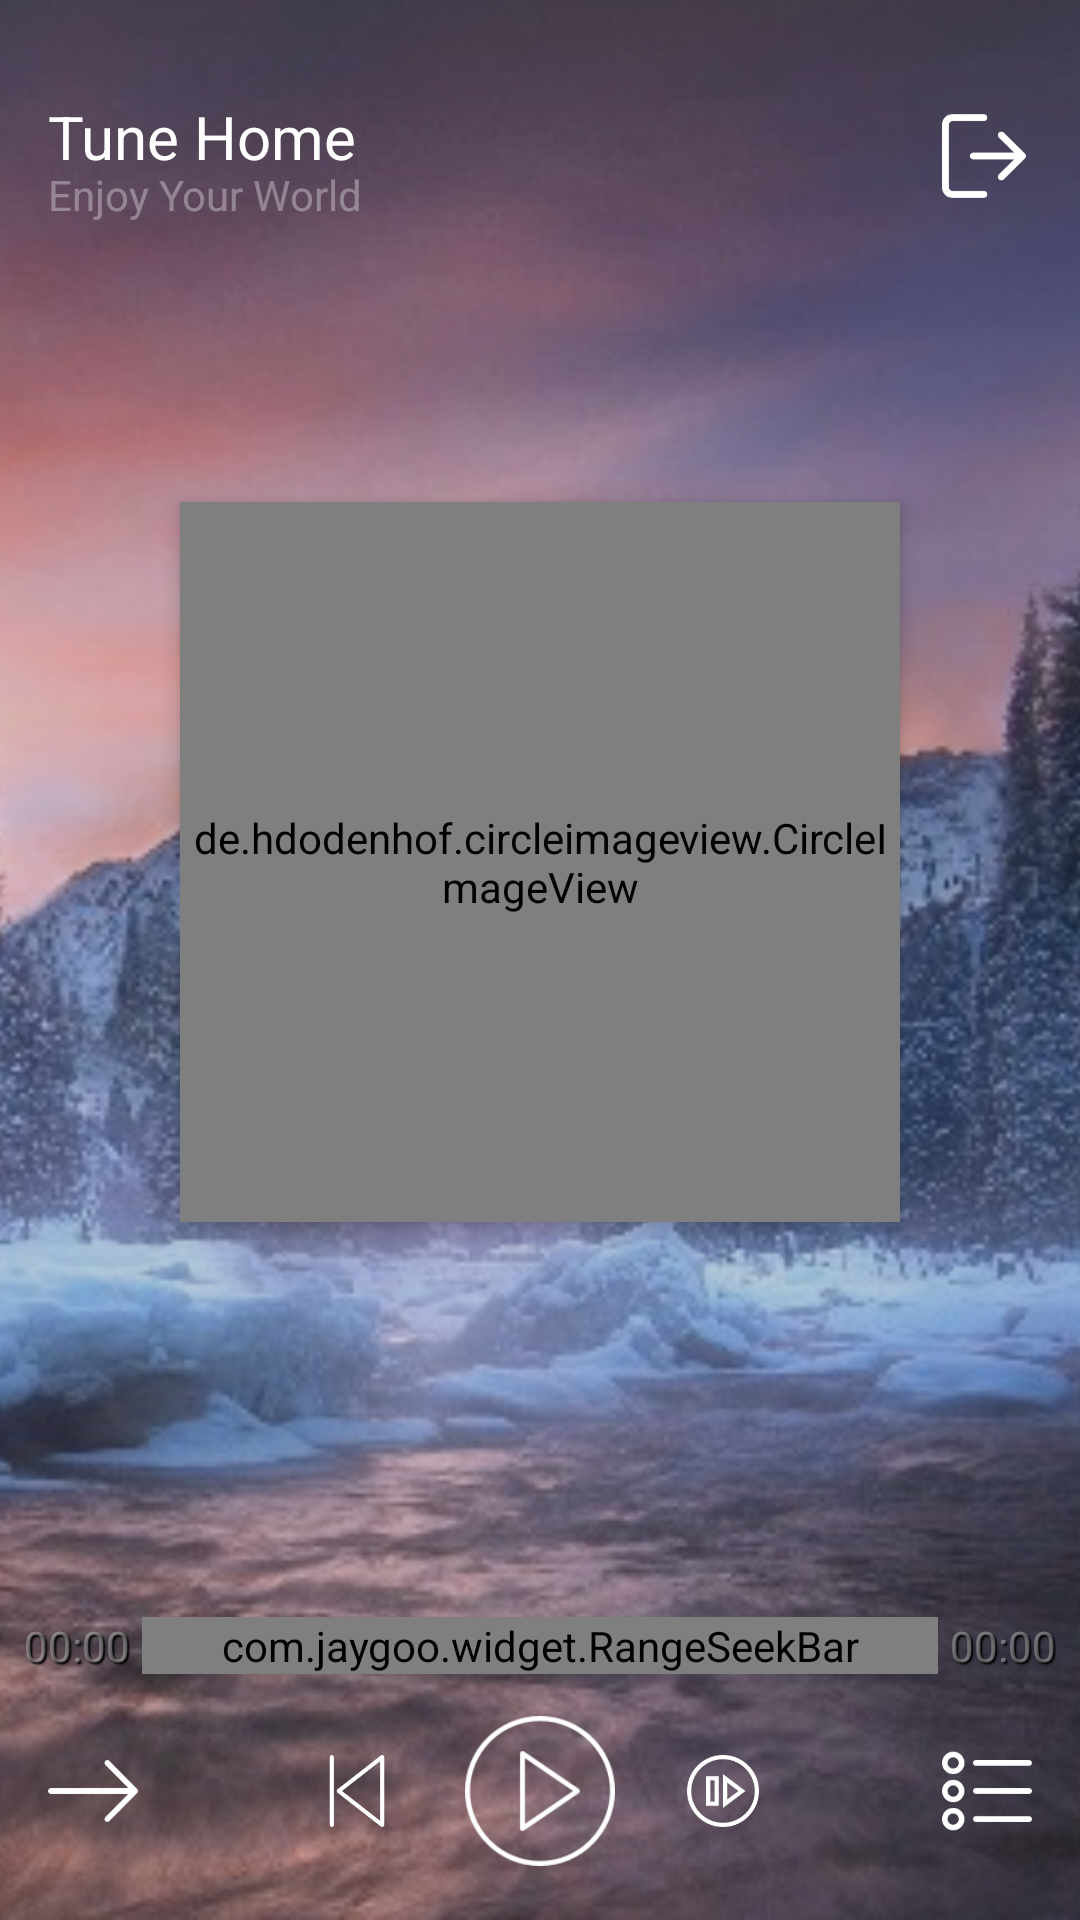

Screen size 1080 × 1920. Icon name, then its center in pixels as point (x, y):
exit: point (984, 156)
next: point (723, 1791)
play: point (540, 1791)
playlist: point (987, 1791)
previous: point (357, 1791)
